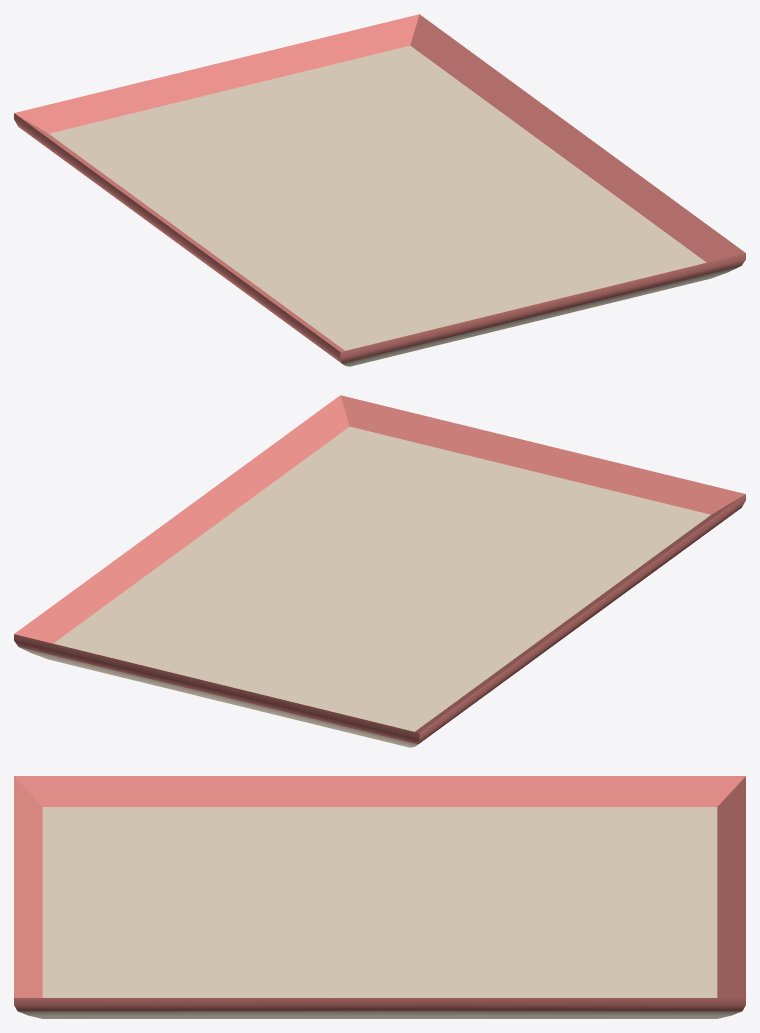
File: teacup tray.fbx
3 renders of one model, top to bottom at view 1: azimuth 30°, elevation 25°; view 2: azimuth 150°, elevation 25°; view 3: azimuth 270°, elevation 25°, orthographic. The views are drawn at different scales.
Parts seen in each view (by area): view 1: tray; view 2: tray; view 3: tray.
Boxes of the visible parts, box(x1,y1,x2,y2) form: tray: box(14, 14, 745, 366); tray: box(14, 395, 745, 747); tray: box(14, 776, 745, 1018).
Bounding box in the file's own units: 9.46 × 0.6551 × 13.18.
